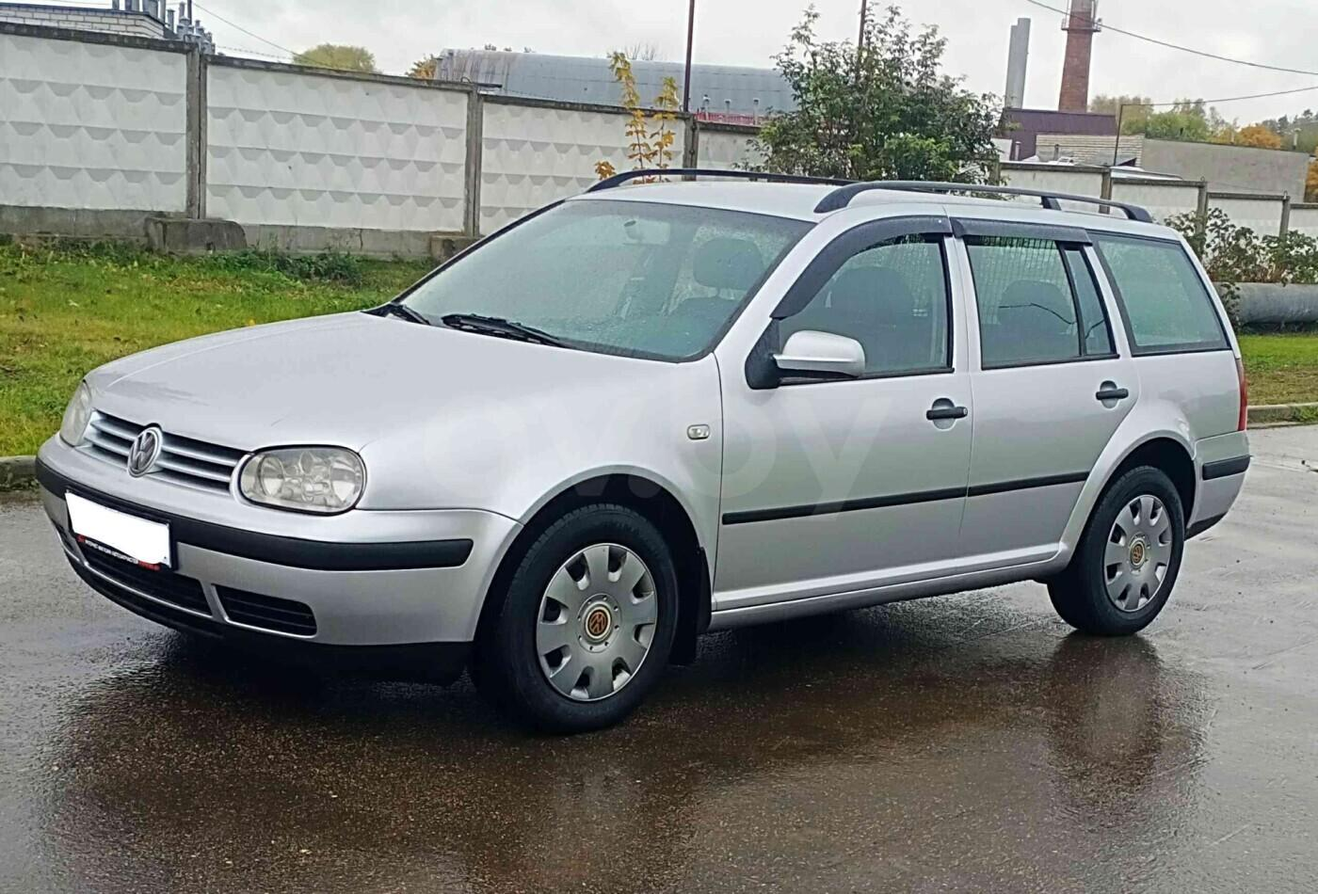Golf_1997-2006: (30, 168, 1253, 720)
